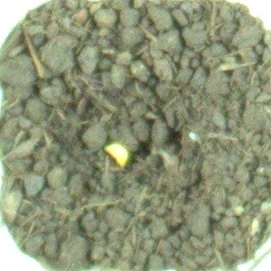pepper seed: (37, 58, 167, 227)
